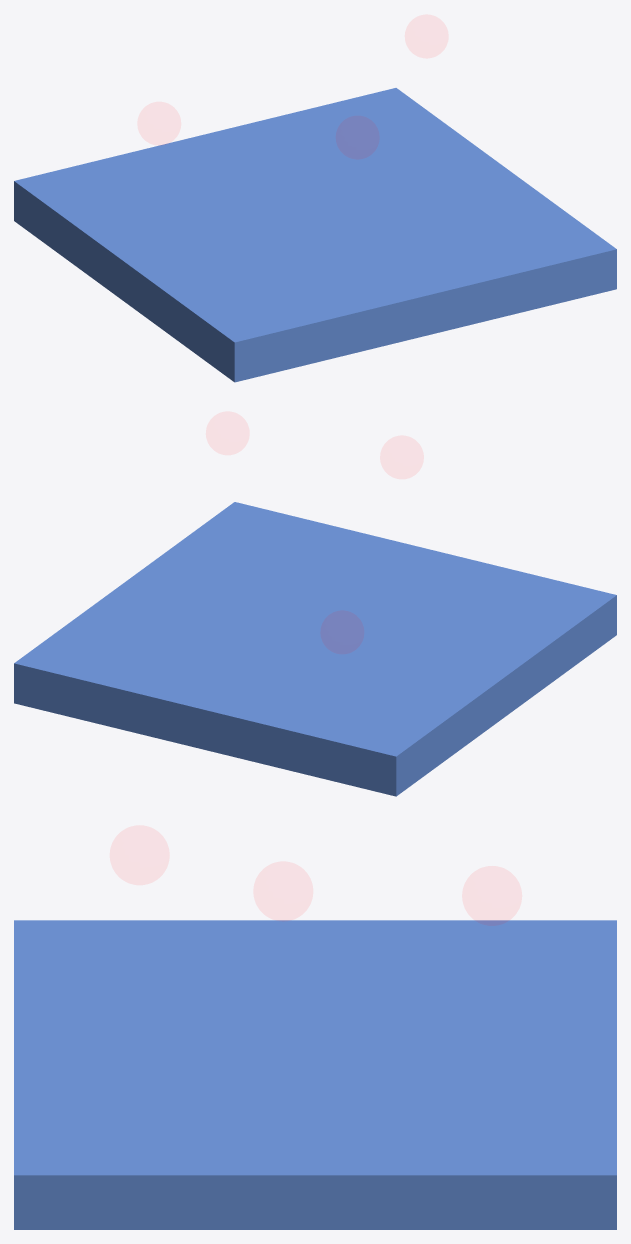
File: level1.glb
3 renders of one model, top to bottom at view 1: azimuth 30°, elevation 25°; view 2: azimuth 150°, elevation 25°; view 3: azimuth 270°, elevation 25°, orthographic. The views are drawn at different scales.
Parts seen in each view (by area): view 1: Cube; view 2: Cube; view 3: Cube.
Part boxes in pixels (x1,y1,x2,y2): Cube: (14,88,616,382); Cube: (14,502,616,796); Cube: (14,920,616,1229).
Bounding box in the file's own units: 20 × 11.15 × 20.
